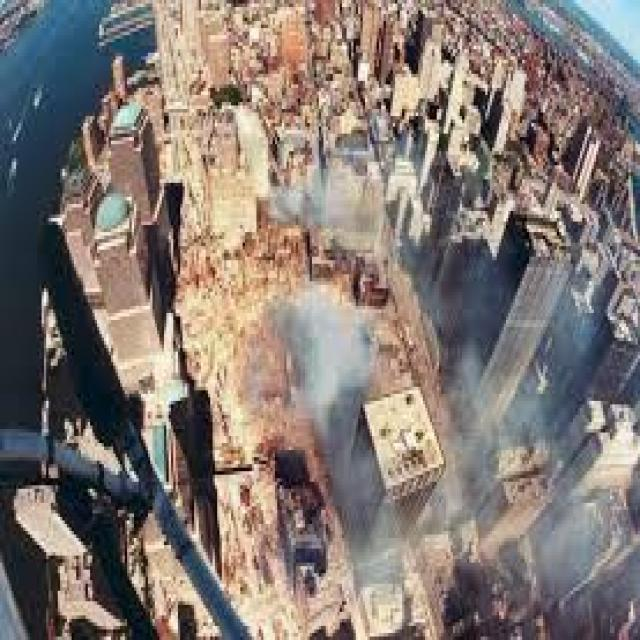Smoke: (420, 250, 640, 630), (236, 139, 420, 591)
